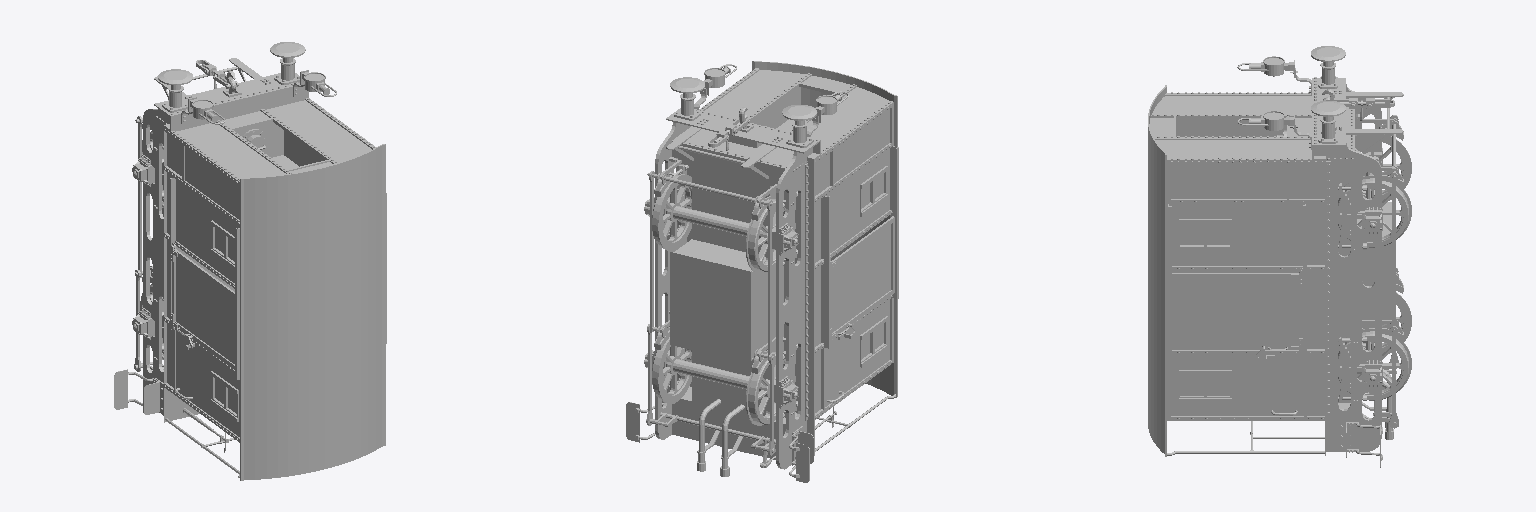
The model's file is wagon0.obj.
3 renders of one model, left to right at view 1: azimuth 30°, elevation 25°; view 2: azimuth 150°, elevation 25°; view 3: azimuth 270°, elevation 25°, orthographic.
Parts seen in each view (by area): view 1: Tender_body1, Tender_door1, Tender_brakes1, Buffer1, Buffer2, object 1, Lamp1, Lamp2; view 2: Tender_body1, Tender_door1, Tender_brakes1, Tender_wheels2, Tender_wheels1, Buffer2, Buffer1, object 1; view 3: Tender_body1, Tender_door2, Tender_brakes1, Tender_wheels2, Tender_wheels1, Buffer2, Buffer1, Lamp2, Lamp1, object 1.
Boxes of the visible parts, box(x1,y1,x2,y2) form: Tender_body1: box(114, 58, 386, 480); Tender_door1: box(171, 243, 234, 369); Tender_brakes1: box(134, 116, 228, 452); Buffer1: box(270, 42, 305, 84); Buffer2: box(158, 69, 192, 112); object 1: box(196, 60, 238, 93); Lamp1: box(188, 97, 225, 124); Lamp2: box(300, 70, 336, 96); Tender_body1: box(626, 61, 898, 482); Tender_door1: box(830, 216, 894, 344); Tender_brakes1: box(646, 157, 836, 467); Tender_wheels2: box(652, 174, 785, 272); Tender_wheels1: box(652, 337, 785, 425); Buffer2: box(782, 105, 817, 147); Buffer1: box(670, 77, 704, 120); object 1: box(708, 107, 761, 150); Tender_body1: box(1148, 68, 1403, 467); Tender_door2: box(1172, 268, 1302, 358); Tender_brakes1: box(1356, 114, 1403, 428); Tender_wheels2: box(1338, 135, 1411, 247); Tender_wheels1: box(1338, 292, 1411, 400); Buffer2: box(1311, 46, 1345, 88); Buffer1: box(1311, 101, 1345, 143); Lamp2: box(1237, 111, 1294, 131); Lamp1: box(1237, 56, 1294, 77); object 1: box(1322, 89, 1394, 120).
Size of the model in its own units: 2.88 by 5.3 by 3.6.